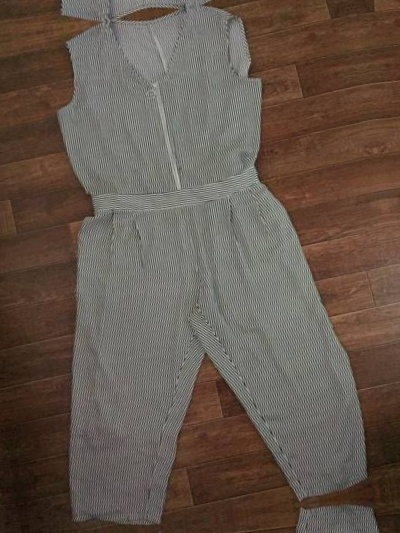Body: (0, 0, 395, 533), (61, 493, 400, 533), (0, 0, 310, 38), (385, 0, 400, 473)
